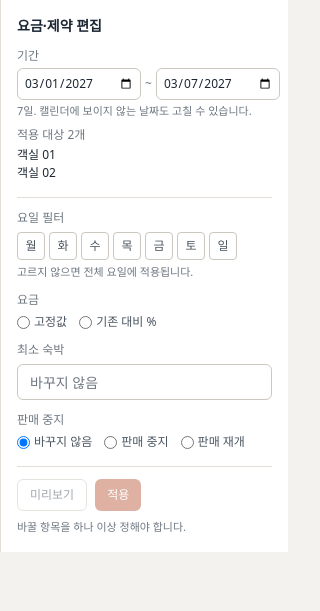
요금·제약 편집 패널 › 음수 고정가·-100% 이하 비율은 이유를 보이고 보내지 않는다 — 작업지시-26 E
Step 1. Click the radio button with test id "price-mode-fixed" → (24, 322), box [17,316,30,329]
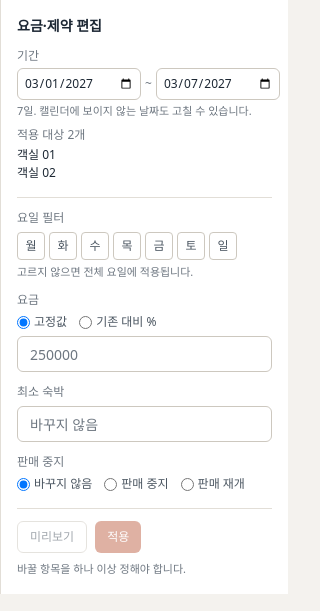
Step 2. Type "-1000" into the number field with test id "price-input" → (144, 354), box [17,336,272,372]
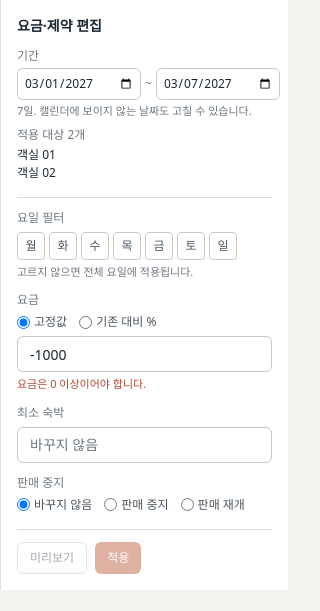
expect the button with test id "apply-button" is disabled: met, box [95,542,141,574]
expect the text with test id "price-problem" reads "요금은 0 이상이어야 합니다.": met, box [17,376,146,391]
Step 3. Click the radio button with test id "price-mode-percent" → (86, 322), box [79,316,92,329]
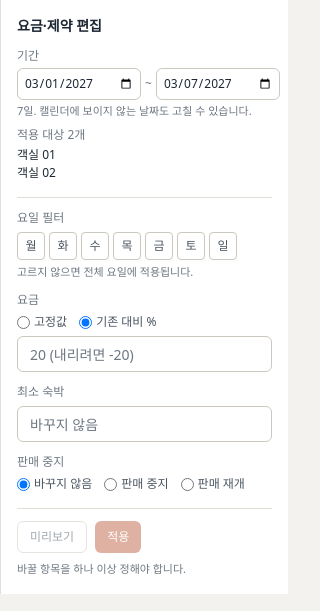
Step 4. Type "-100" into the number field with test id "percent-input" → (144, 354), box [17,336,272,372]
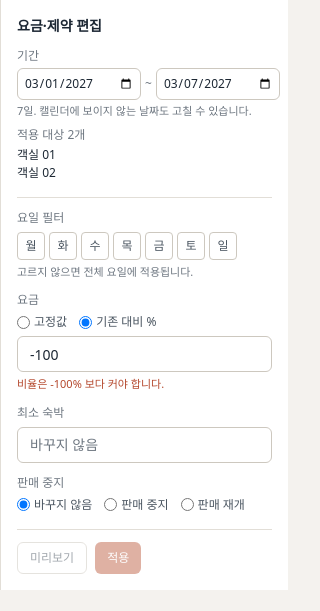
expect the button with test id "apply-button" is disabled: met, box [95,542,141,574]
expect the text with test id "price-problem" reads "비율은 -100% 보다 커야 합니다.": met, box [17,376,164,391]
Step 5. Replace the text in the number field with test id "percent-input" with "-20" → (144, 354), box [17,336,272,372]
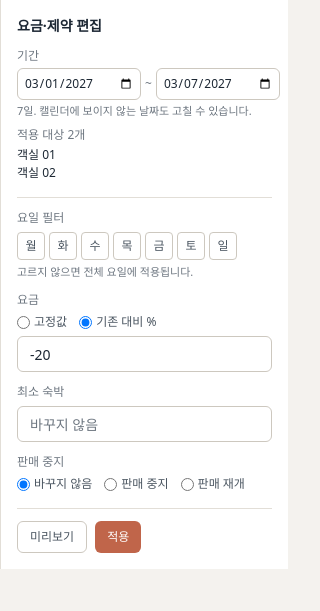
expect the text with test id "price-problem" is gone: met
expect the button with test id "apply-button" is enabled: met, box [95,521,141,553]
